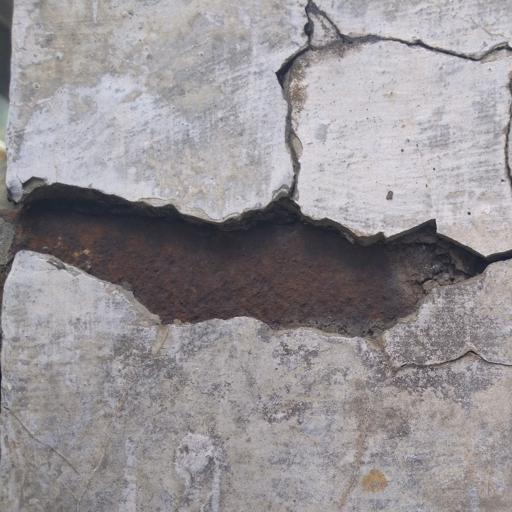spalling: (10, 7, 512, 376)
